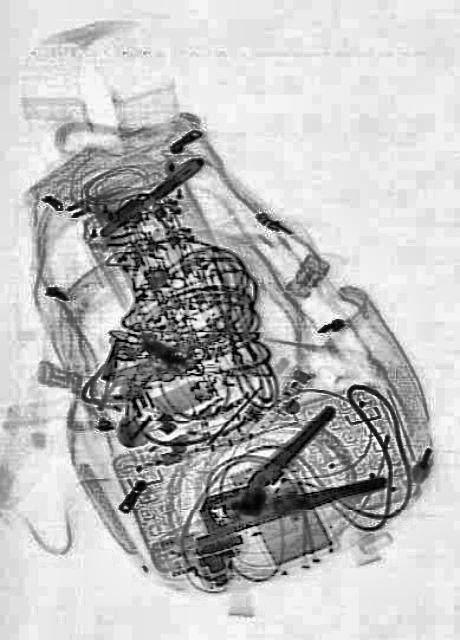Pliers: (185, 388, 386, 568)
